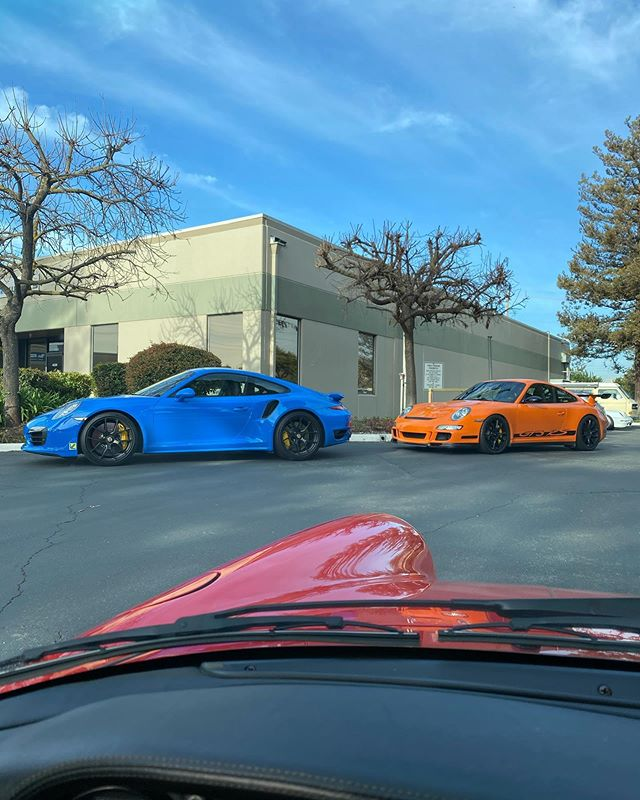building: (31, 239, 572, 425)
car: (6, 370, 354, 466), (362, 370, 605, 455)
sky: (55, 1, 609, 216)
street: (1, 435, 615, 653)
tree: (1, 116, 172, 370), (335, 218, 505, 444), (562, 122, 640, 392)
